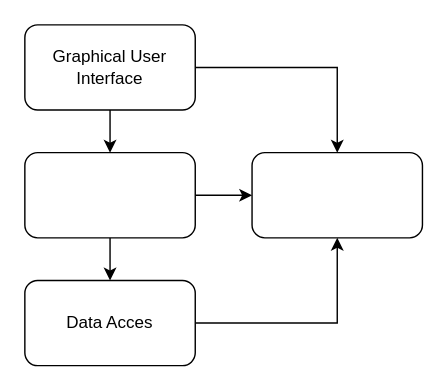
This 447x391 diagram has some shape labels left out. Here are the shapes that lost their labels. From the top down, the box of each, then its label:
(23, 151, 195, 238): Bussiness Logic
(251, 151, 422, 238): Data Model
